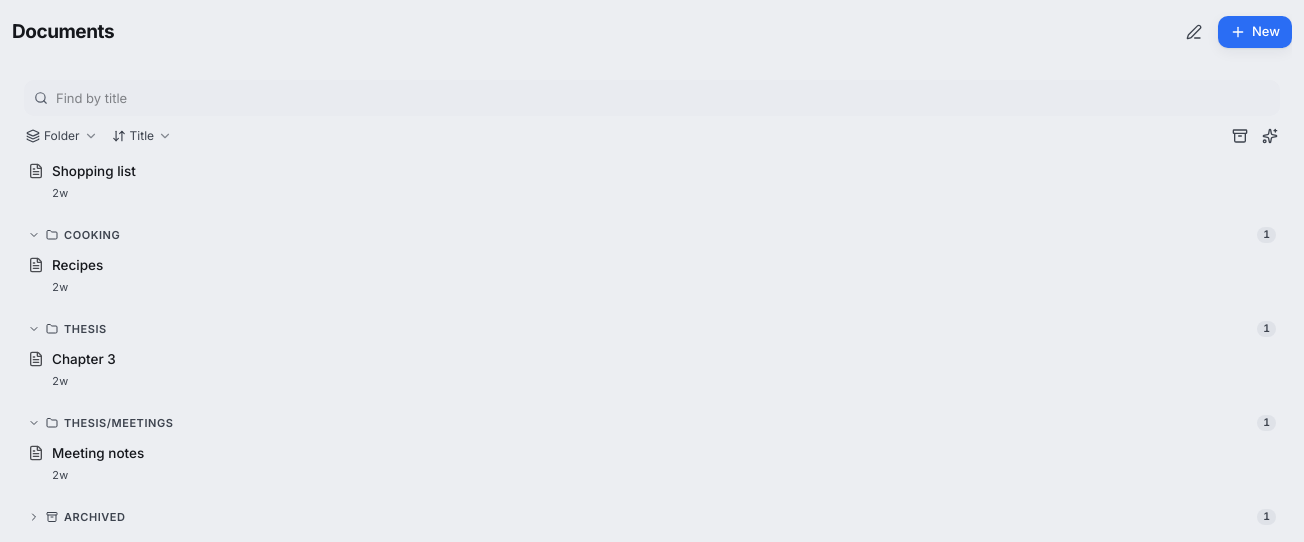
Test: the row menu › the archived group can be hidden
This screenshot has width=1304, height=542.
Click the button named "Hide archived documents" at (1240, 136), box [1226, 122, 1254, 150]
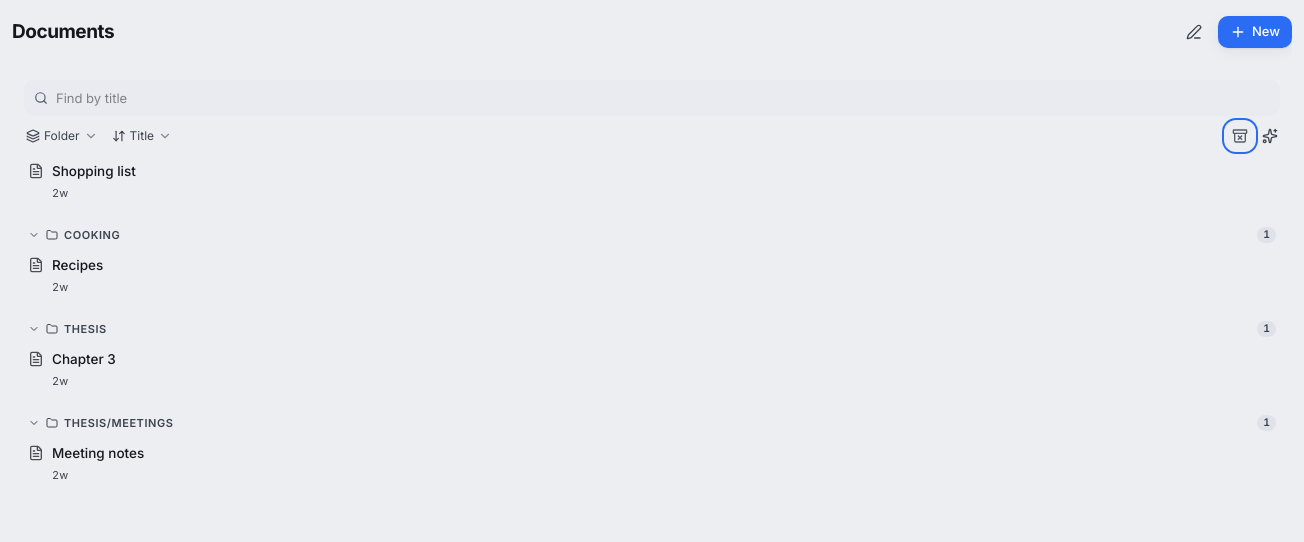
Expected: the button "Archived 1" is gone
